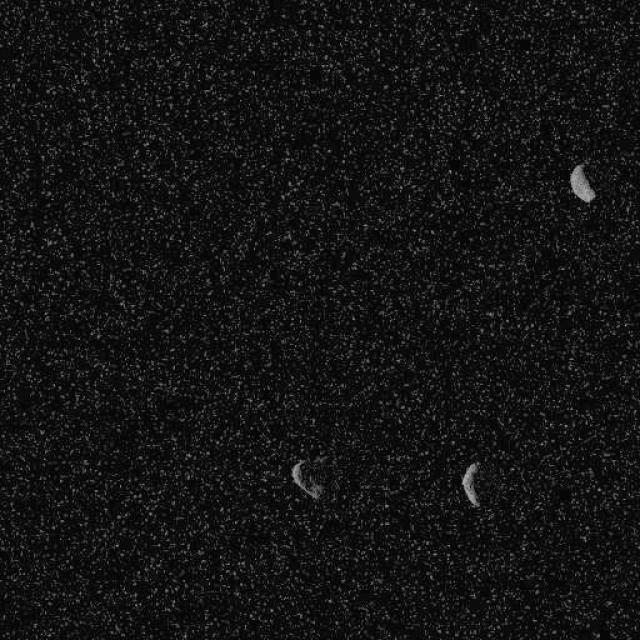D2: (288, 458, 324, 500), (569, 162, 595, 204), (460, 460, 482, 509)
